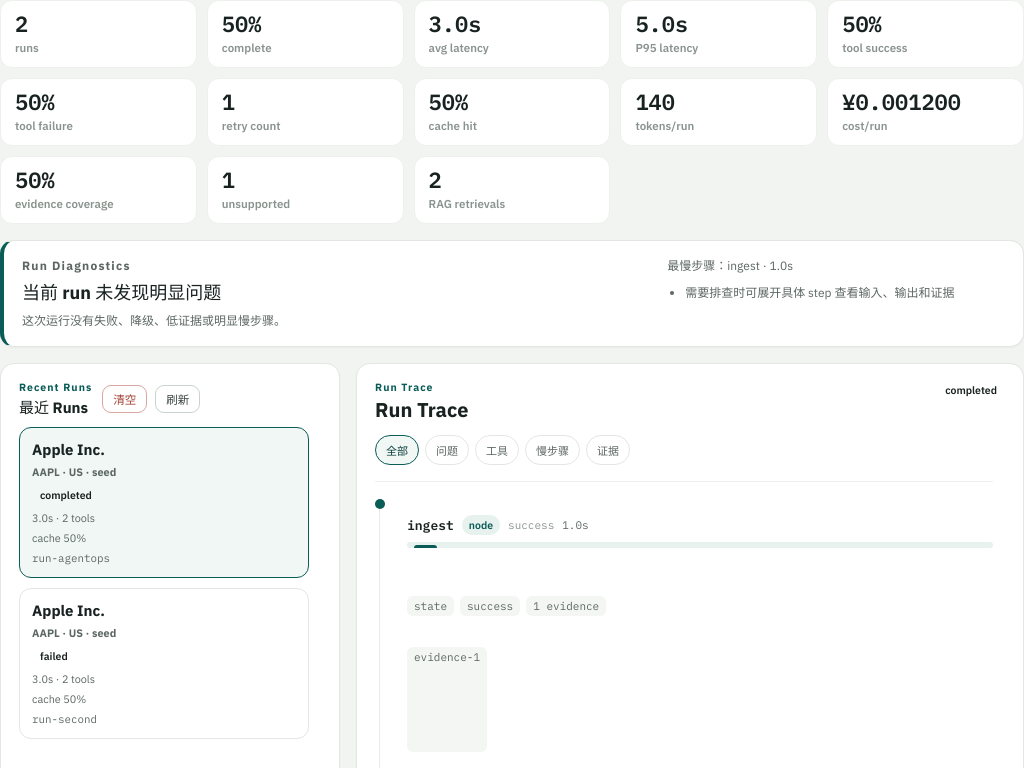
AgentOpsDashboard › loads the selected run trace when another run is selected
Click the button "run-second": (68, 611) [19, 588, 309, 739]
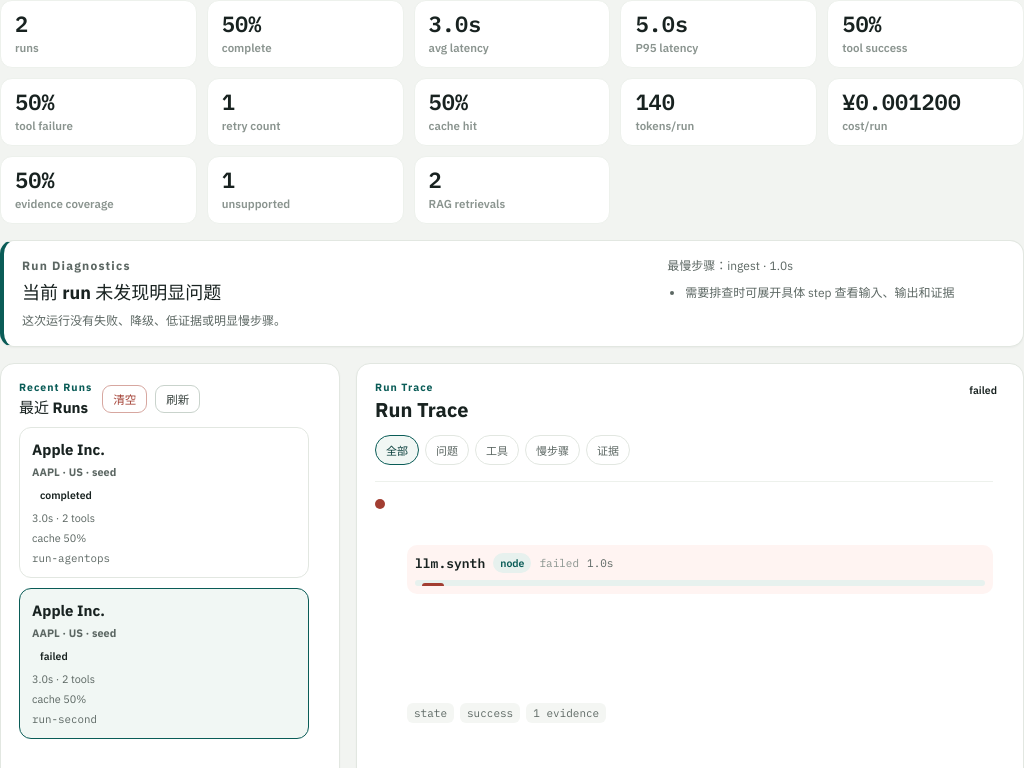
Now the text "llm.synth" is shown, box [415, 555, 485, 572]
